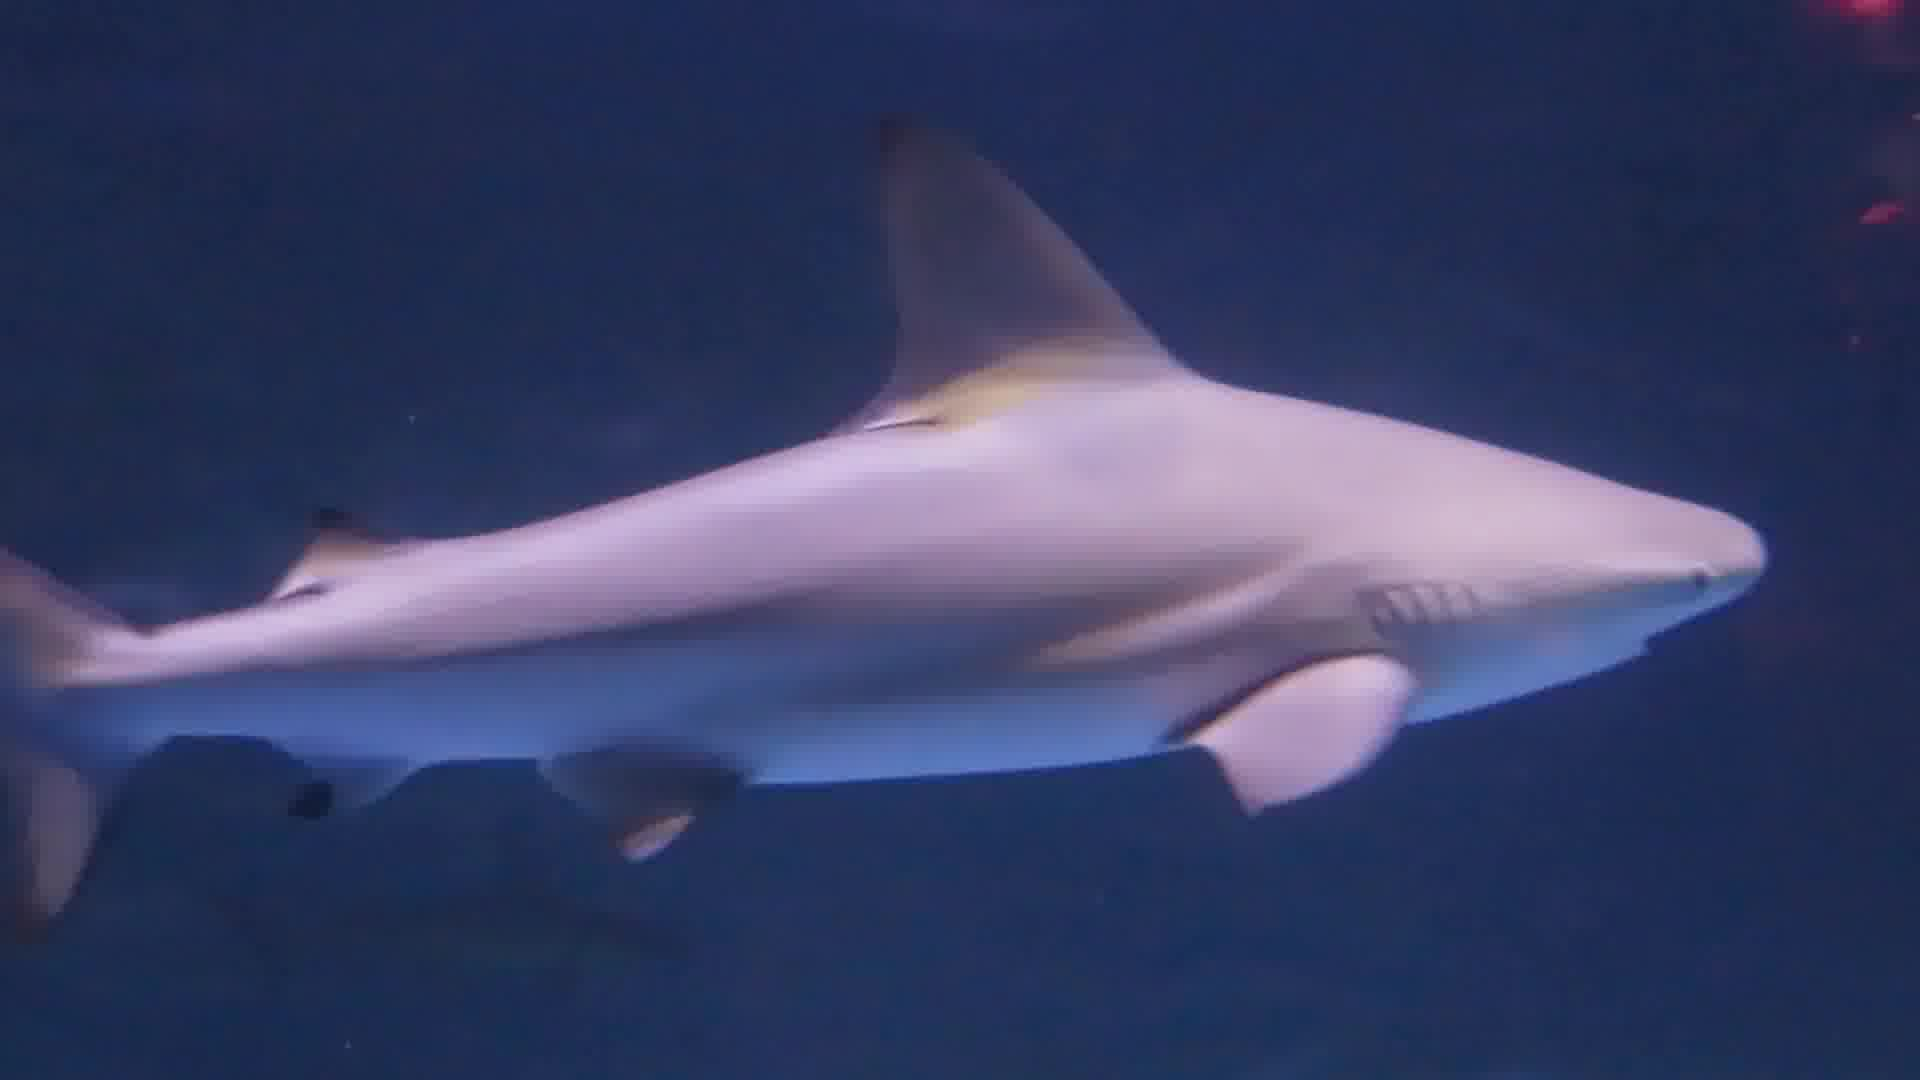Carcharhinus leucas: (1, 104, 1789, 905)
